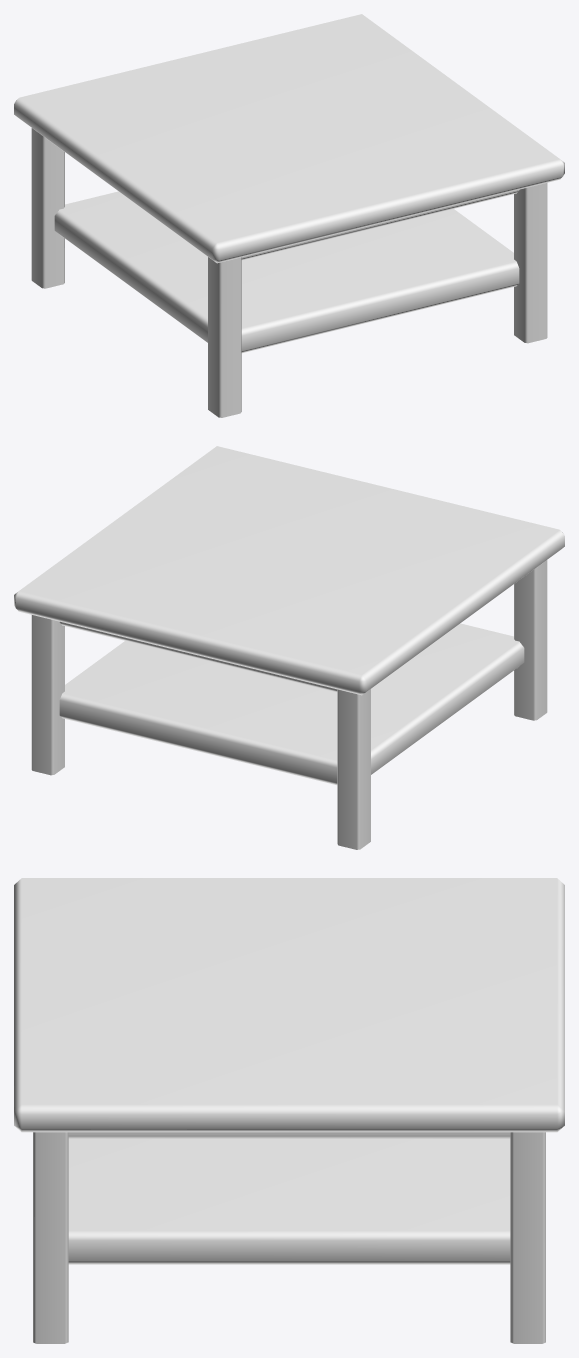
The model's file is coffee_table_003.fbx.
3 views of the same model, one above another, from view 1: azimuth 30°, elevation 25°; view 2: azimuth 150°, elevation 25°; view 3: azimuth 270°, elevation 25° (orthographic). The views are drawn at different scales.
Visible parts, largest first — view 1: coffee_table_003; view 2: coffee_table_003; view 3: coffee_table_003.
Boxes of the visible parts, x1,y1,x2,y2 form: coffee_table_003: (14,14,564,417); coffee_table_003: (14,446,564,849); coffee_table_003: (14,878,564,1343).
Bounding box in the file's own units: 124 × 124 × 60.44.
